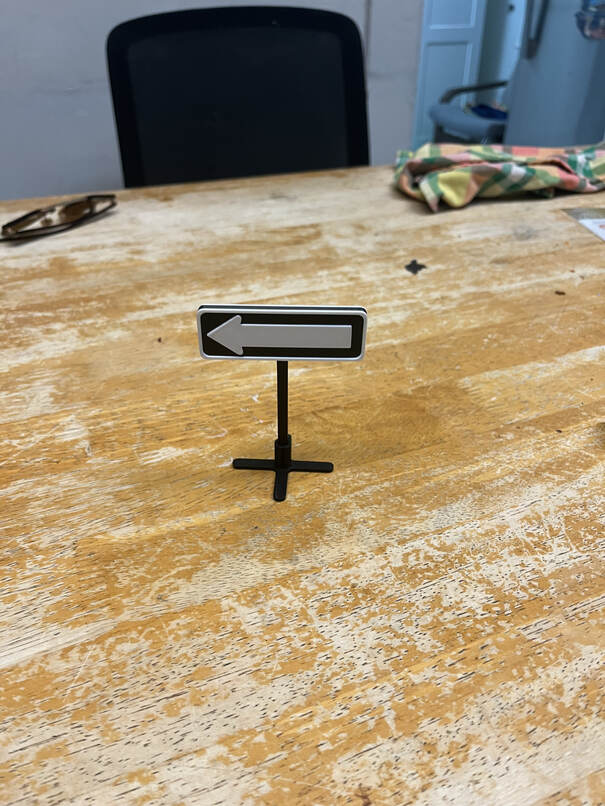sign_oneway_left: (195, 301, 370, 365)
